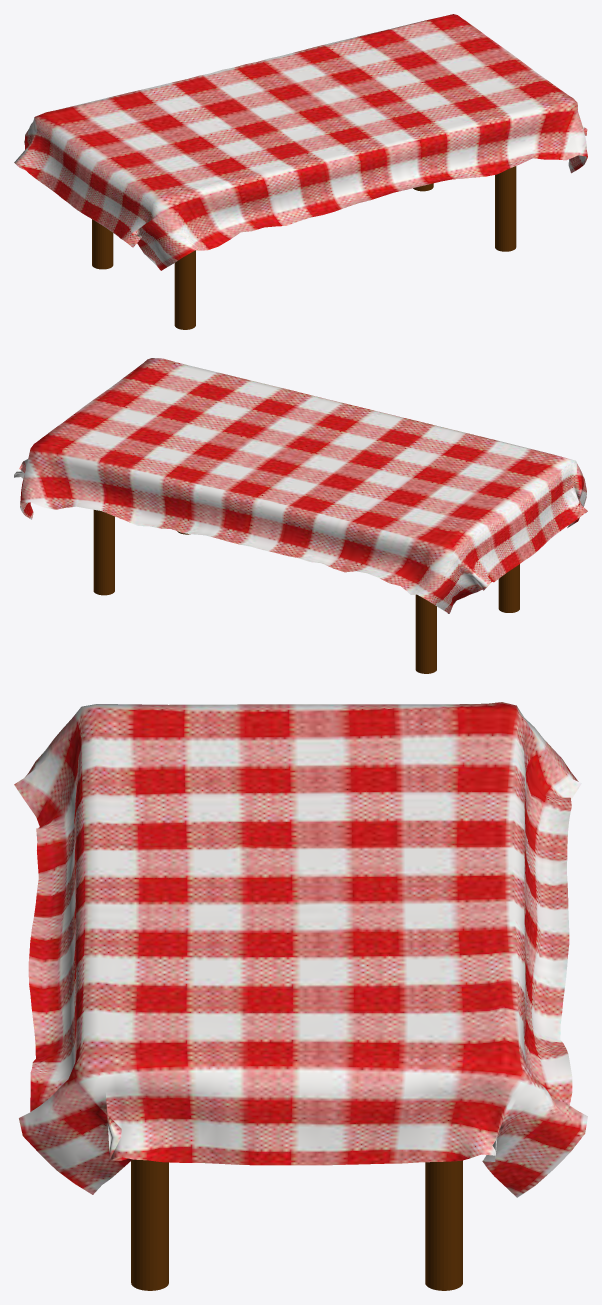
File: table.dae
3 views of the same model, one above another, from view 1: azimuth 30°, elevation 25°; view 2: azimuth 150°, elevation 25°; view 3: azimuth 270°, elevation 25° (orthographic). The views are drawn at different scales.
Visible parts, largest first — view 1: Plane, Cylinder_001, Cylinder, Cylinder_003; view 2: Plane, Cylinder_002, Cylinder_003, Cylinder; view 3: Plane, Cylinder_001, Cylinder_002.
Part boxes in pixels (left/top/right/bottom): Plane: left=14, top=14, right=587, bottom=270; Cylinder_001: left=495, top=166, right=516, bottom=251; Cylinder: left=174, top=250, right=195, bottom=329; Cylinder_003: left=92, top=219, right=113, bottom=269; Plane: left=14, top=358, right=587, bottom=613; Cylinder_002: left=93, top=510, right=114, bottom=595; Cylinder_003: left=415, top=594, right=436, bottom=673; Cylinder: left=498, top=564, right=519, bottom=612; Plane: left=14, top=702, right=587, bottom=1197; Cylinder_001: left=131, top=1159, right=168, bottom=1290; Cylinder_002: left=425, top=1160, right=462, bottom=1290.
Size of the model in its own units: 4.55 by 2.7 by 1.37.
Materials: 2 (1 with a texture image).
